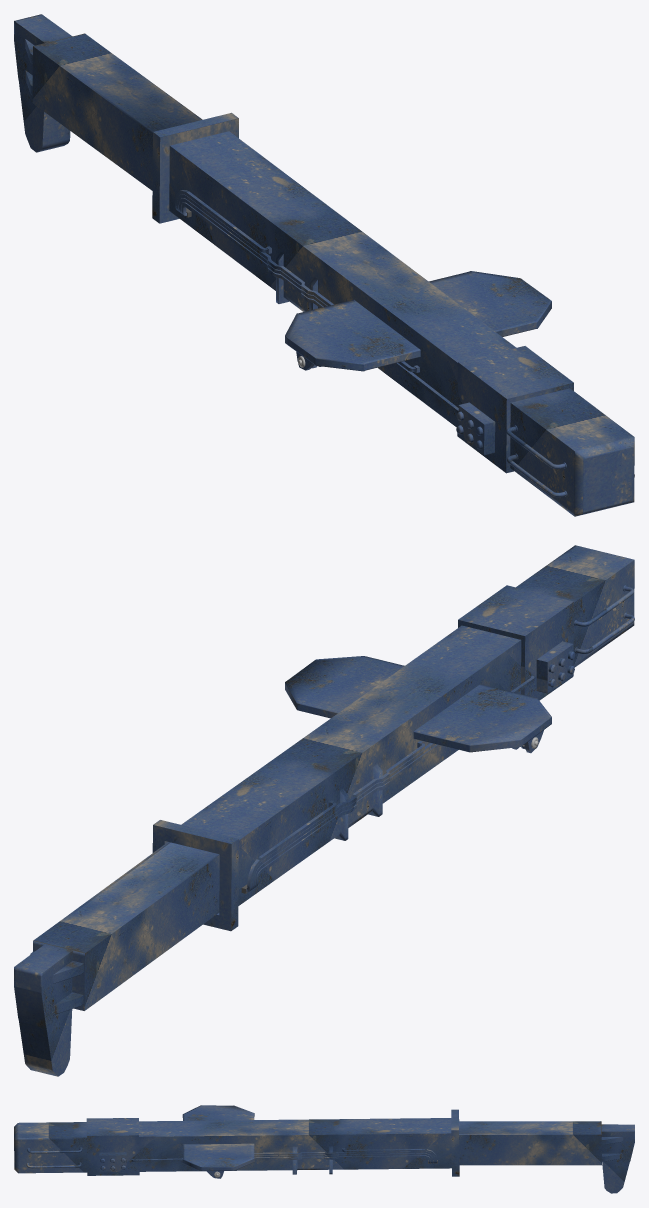
The picture shows the model from 3 angles, top to bottom: view 1: azimuth 30°, elevation 25°; view 2: azimuth 150°, elevation 25°; view 3: azimuth 270°, elevation 25°; orthographic projection. The views are drawn at different scales.
Parts seen in each view (by area): view 1: 架1.005; view 2: 架1.005; view 3: 架1.005.
Part boxes in pixels (x1=…): 架1.005: x1=14, y1=14, x2=634, y2=516; 架1.005: x1=14, y1=545, x2=634, y2=1076; 架1.005: x1=14, y1=1105, x2=634, y2=1193.
Bounding box in the file's own units: 1.52 × 0.8 × 6.43.
Materials: 4 (2 with a texture image).
